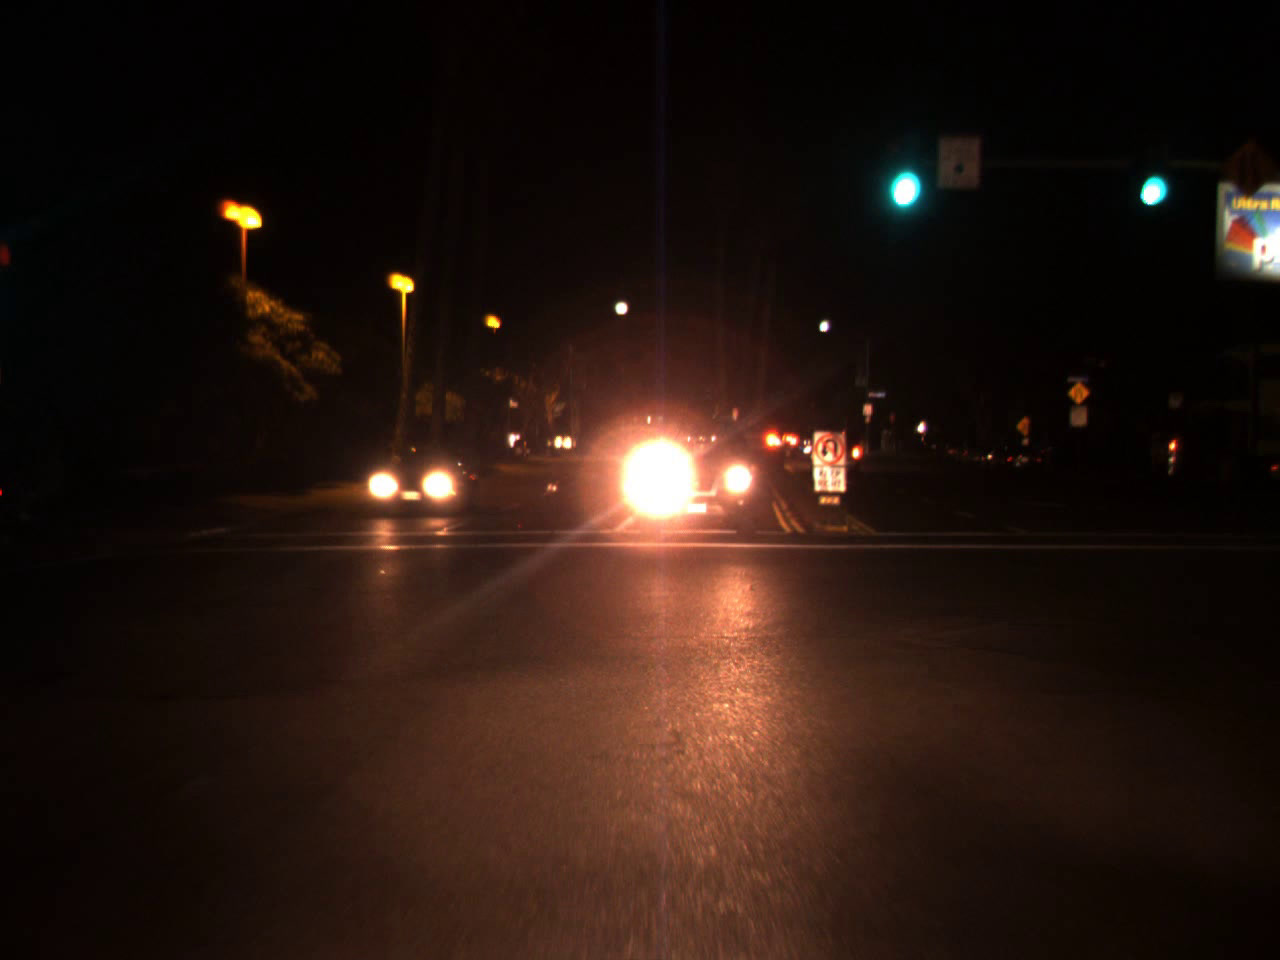go: (881, 132, 922, 219), (1132, 141, 1166, 216)
